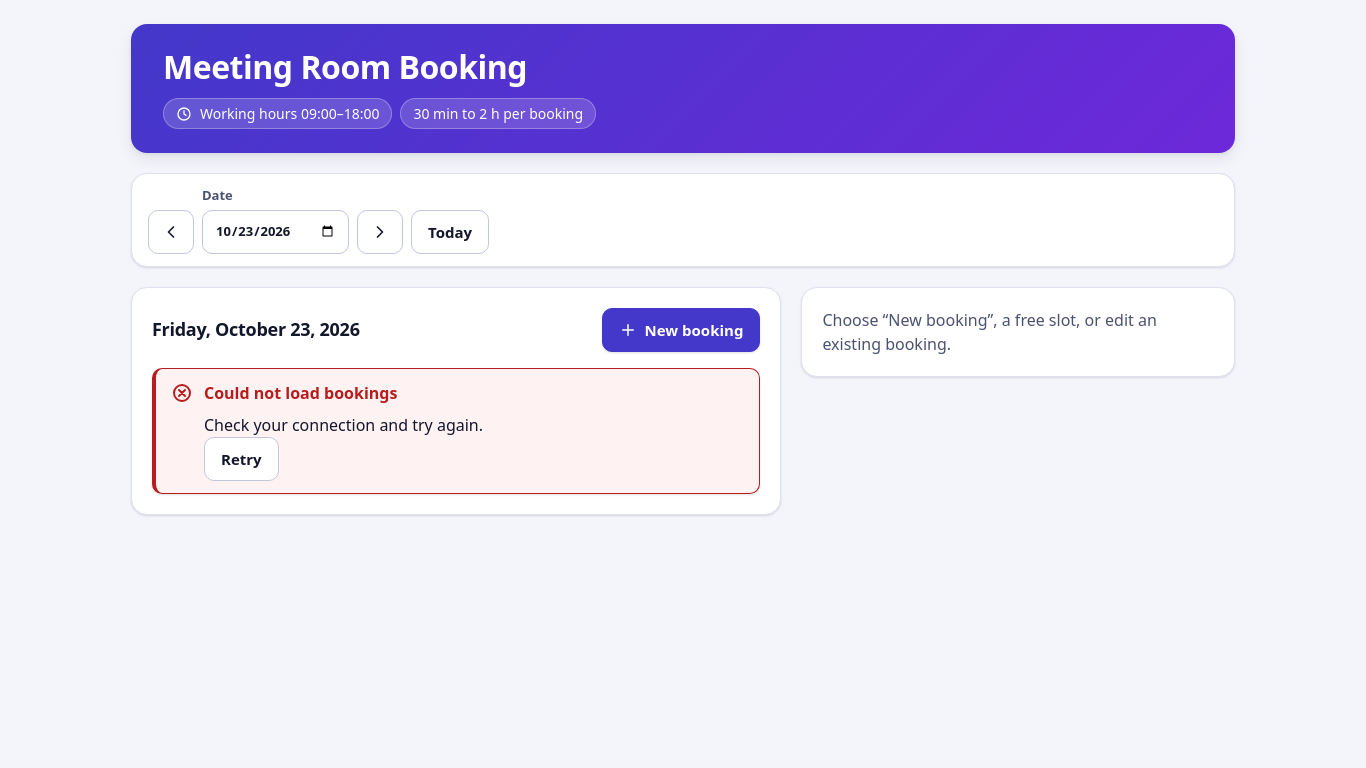
day view states › shows an error with Retry, and recovers
The width and height of the screenshot is (1366, 768).
Check: the message shows "Could not load bookings", box x1=204 y1=382 x2=397 y2=404
Click the button "Retry".
click(241, 459)  # box x1=204 y1=437 x2=279 y2=481
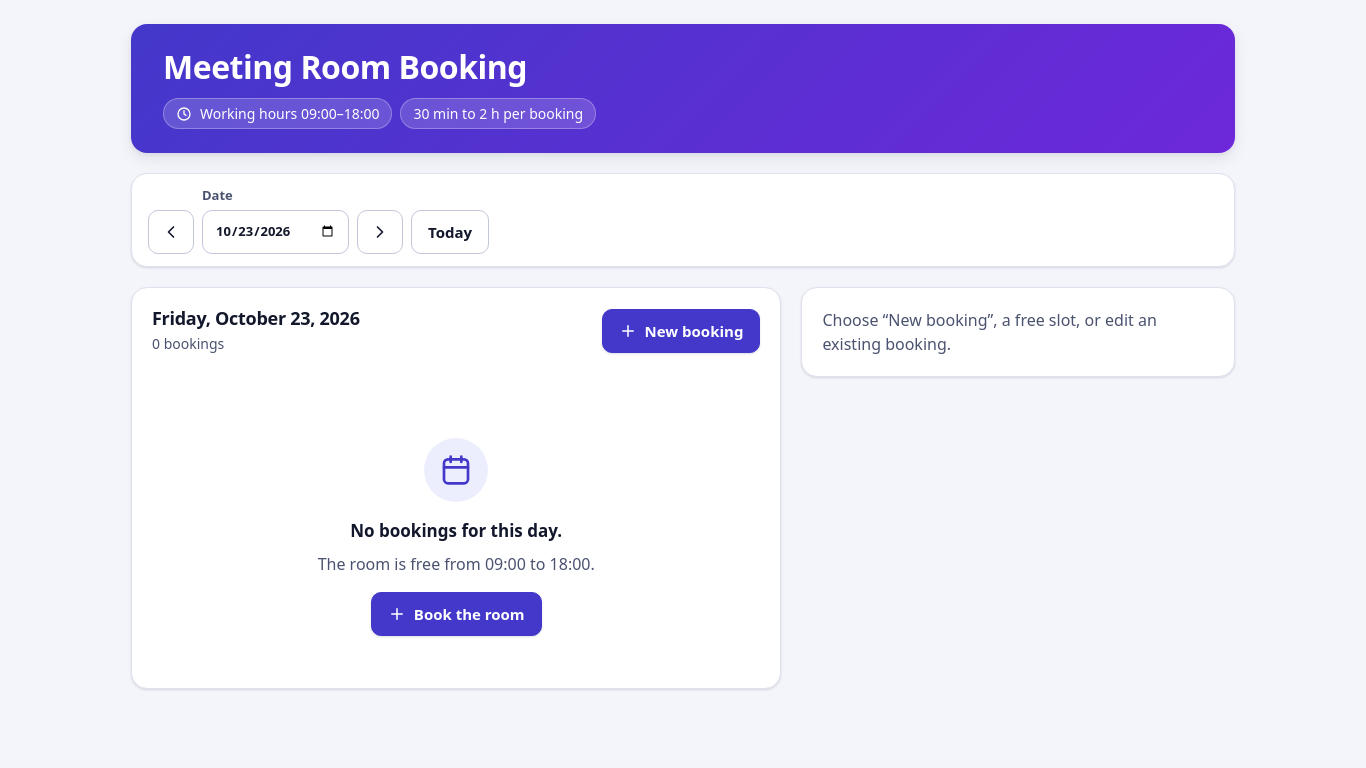
Check: the text "No bookings for this day." is shown, box x1=350 y1=518 x2=562 y2=544
